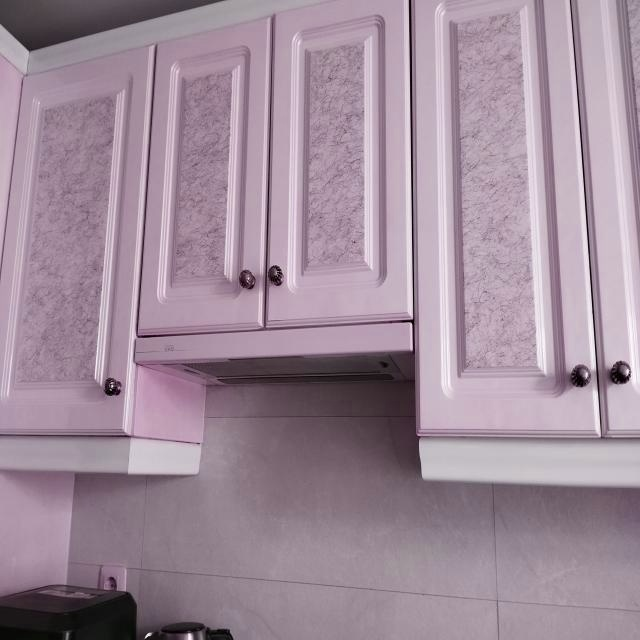cabinet: (413, 0, 640, 489), (137, 0, 416, 338), (0, 49, 198, 477)
